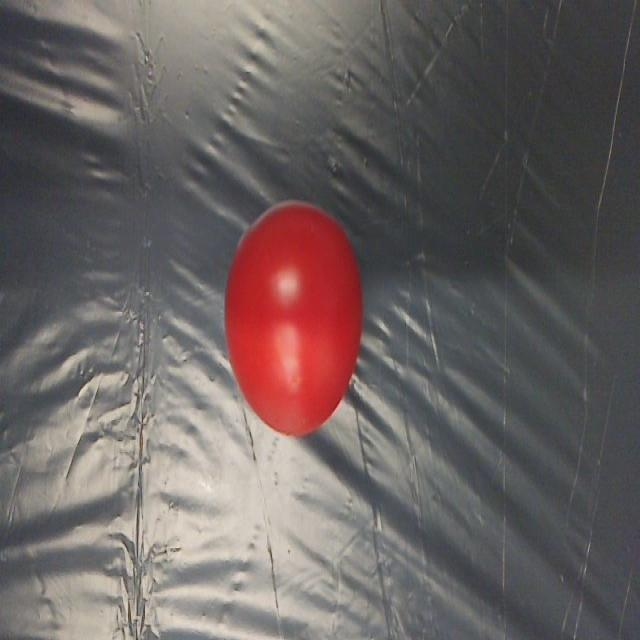kirmizi: (206, 198, 381, 446)
